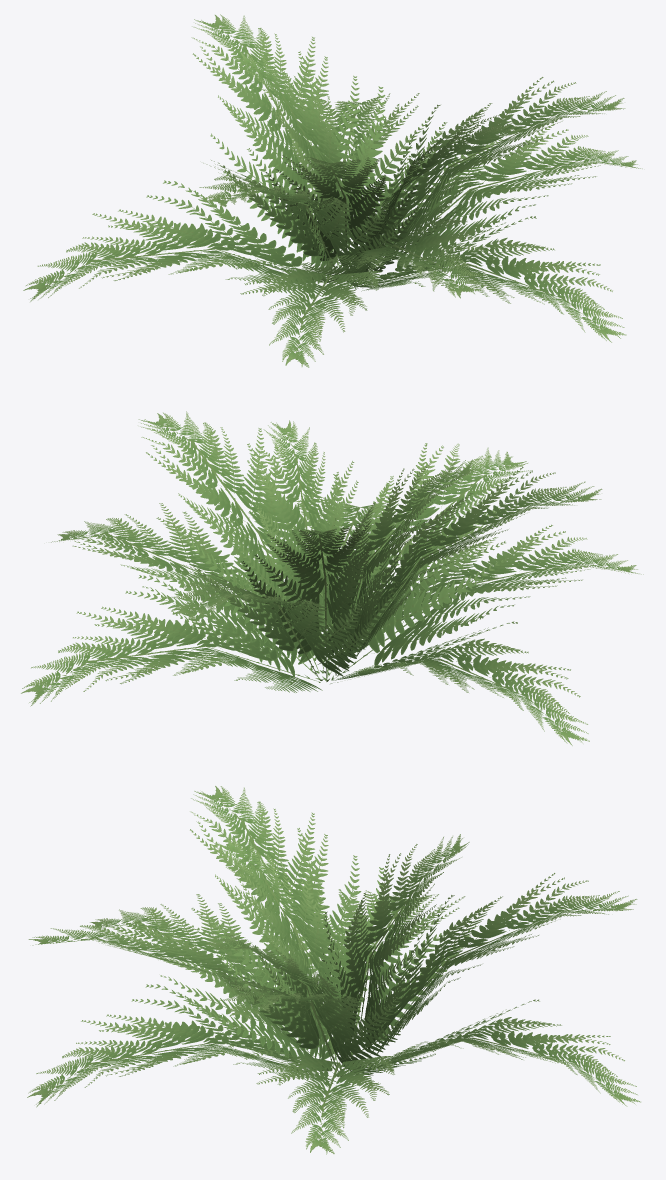
Rendered from vegetation_fern-lady.fbx.
3 renders of one model, top to bottom at view 1: azimuth 30°, elevation 25°; view 2: azimuth 150°, elevation 25°; view 3: azimuth 270°, elevation 25°, orthographic. The views are drawn at different scales.
Visible parts, largest first — view 1: vegetation_fern_lady; view 2: vegetation_fern_lady; view 3: vegetation_fern_lady.
Boxes of the visible parts, left/top/right/bottom form: vegetation_fern_lady: left=23, top=14, right=642, bottom=367; vegetation_fern_lady: left=21, top=411, right=643, bottom=745; vegetation_fern_lady: left=27, top=786, right=640, bottom=1154.
Bounding box in the file's own units: 151 × 53.44 × 138.
